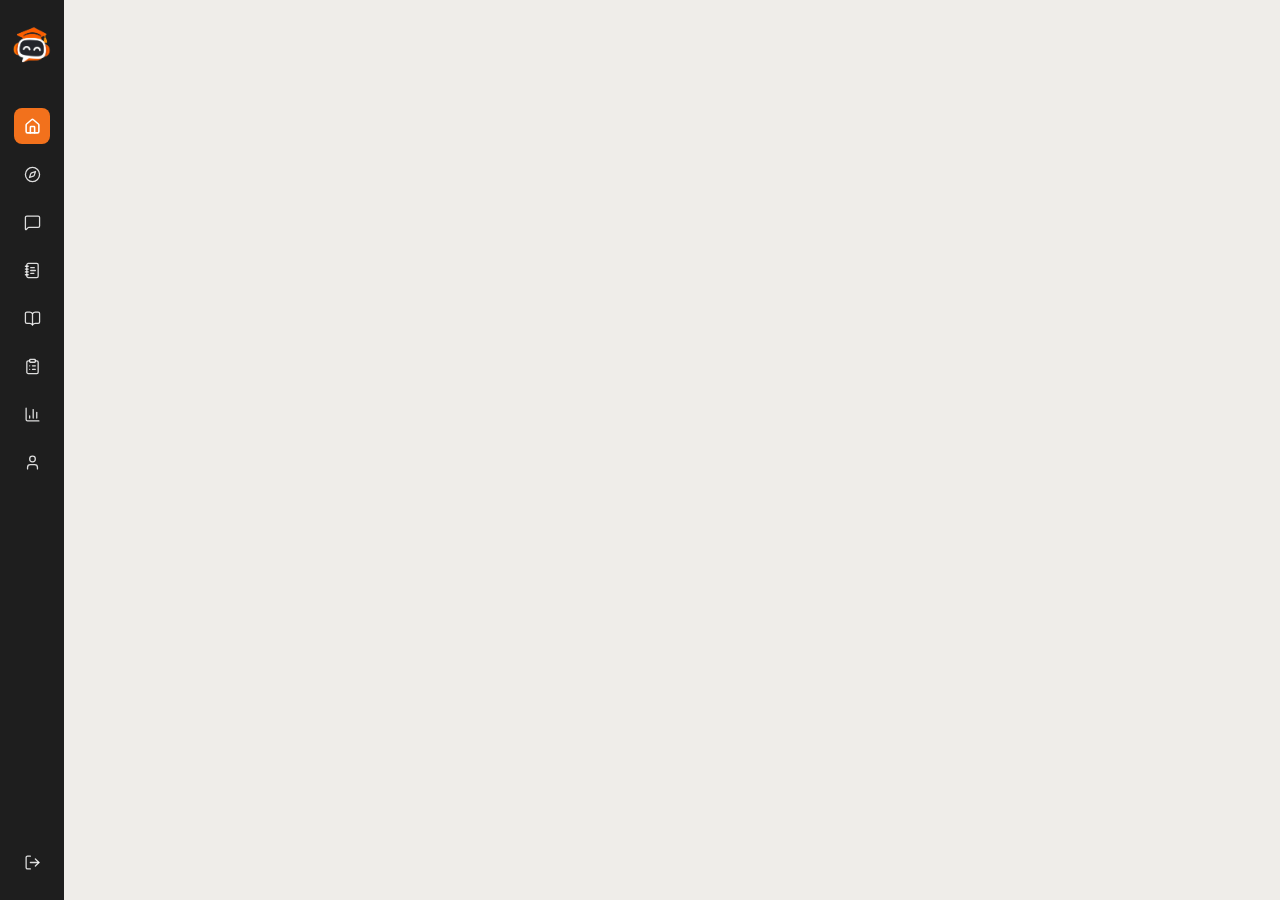
Test: Sidenav (navegação lateral) › clicar em 'Sair da conta' abre o modal de confirmação sem encerrar a sessão ainda
Click the button named "Sair da conta" at (32, 862), box left=14, top=844, right=50, bottom=880
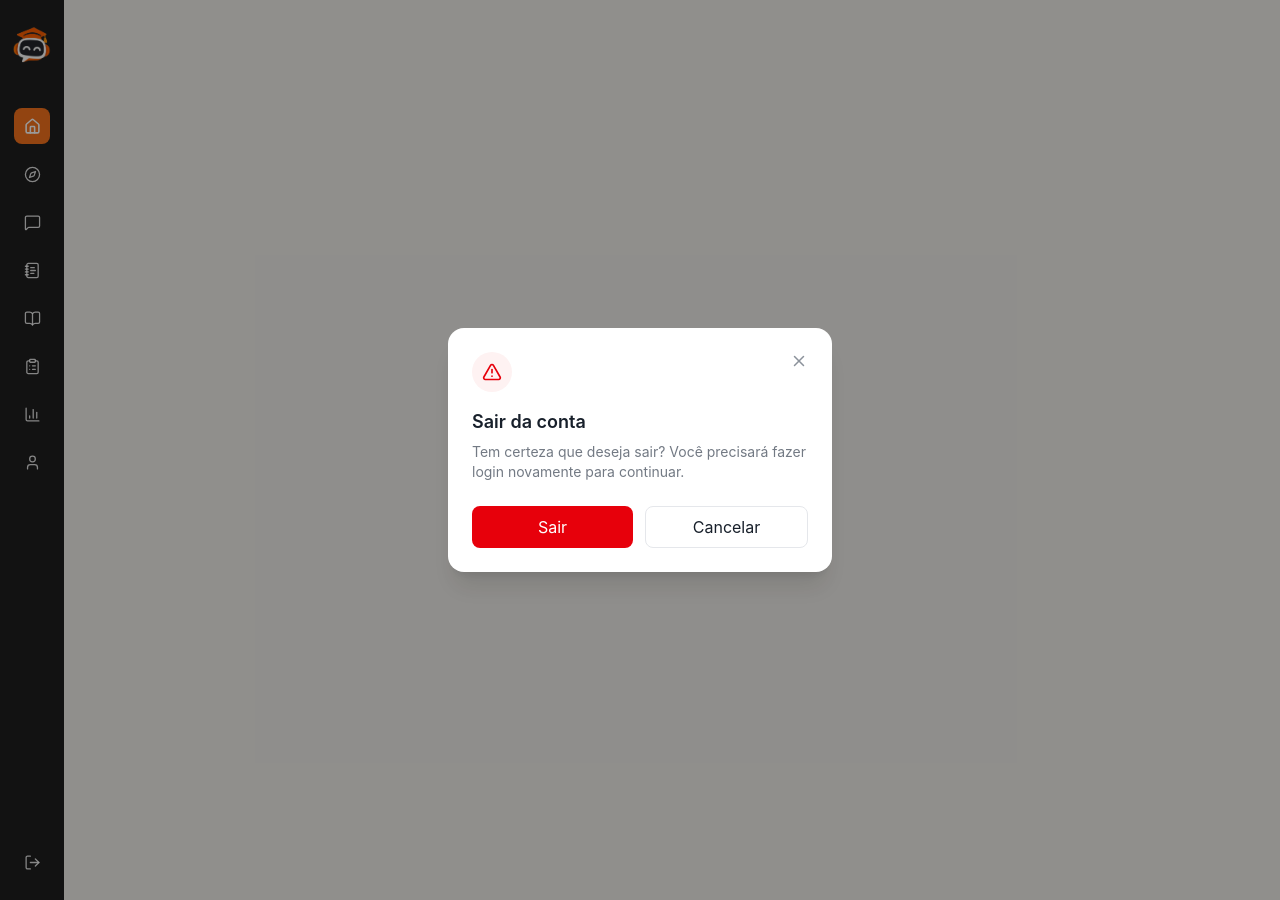
Now the text "Tem certeza que deseja sair? Você precisará fazer login novamente para continuar." is shown, box left=472, top=443, right=806, bottom=480
